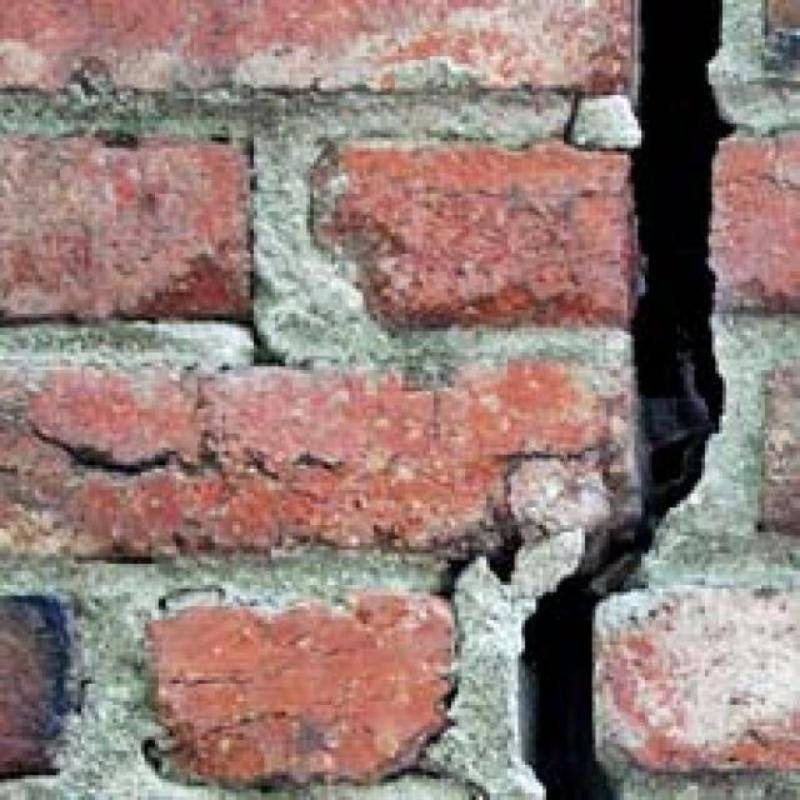pothole: (519, 0, 733, 799)
